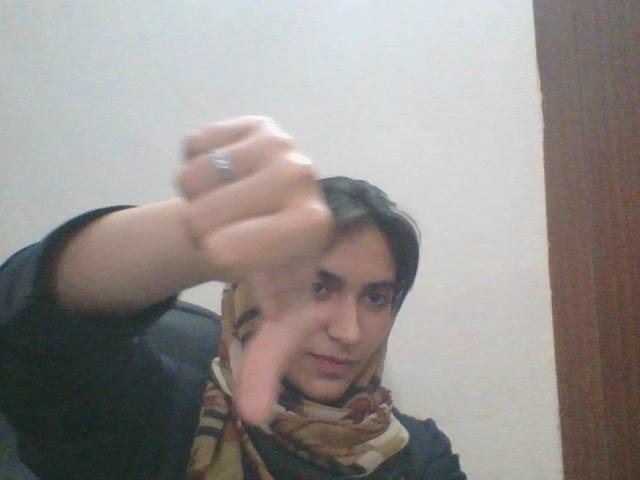thumbs-down: (172, 120, 329, 431)
